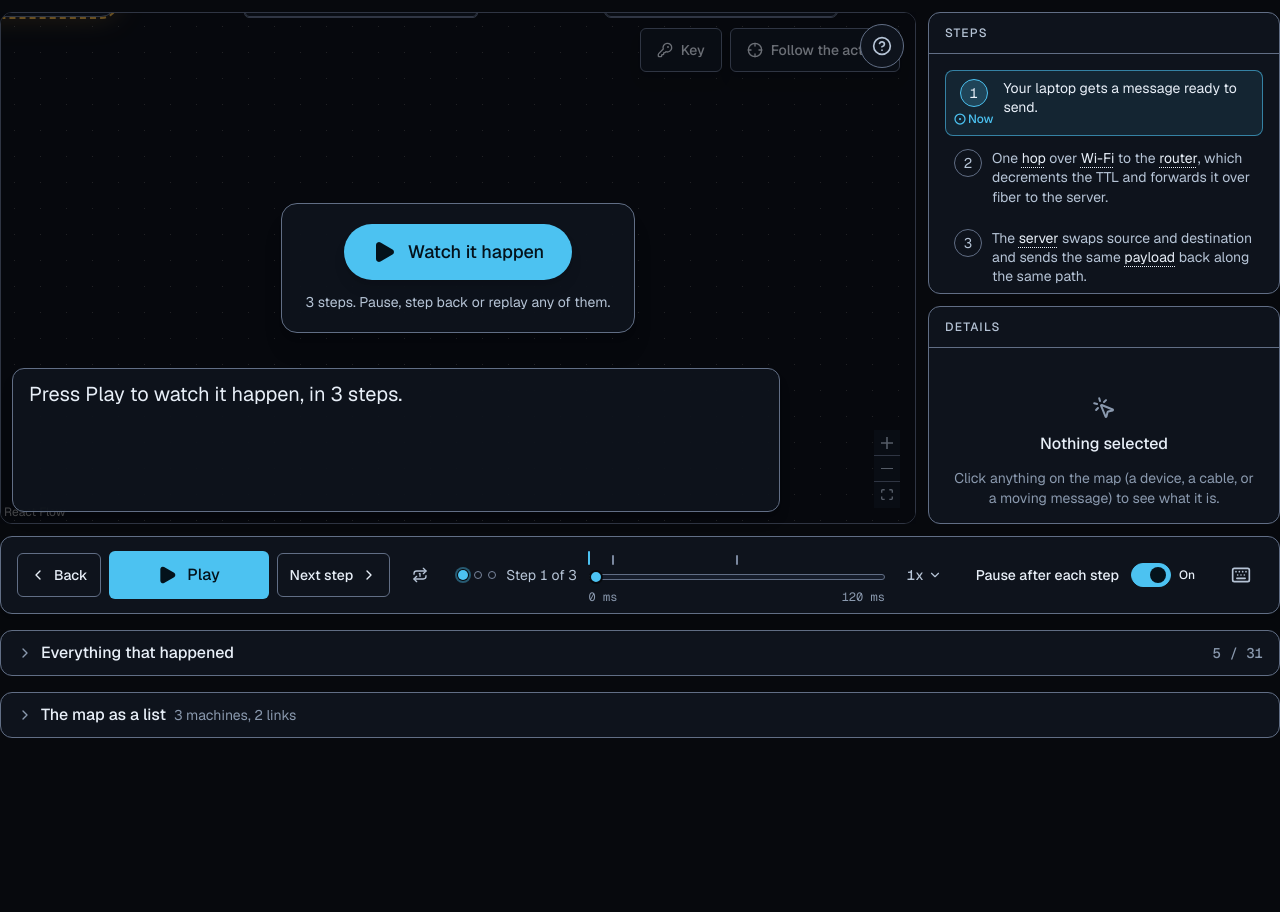
the run recap › closes on its button and hands focus to Play
Press End
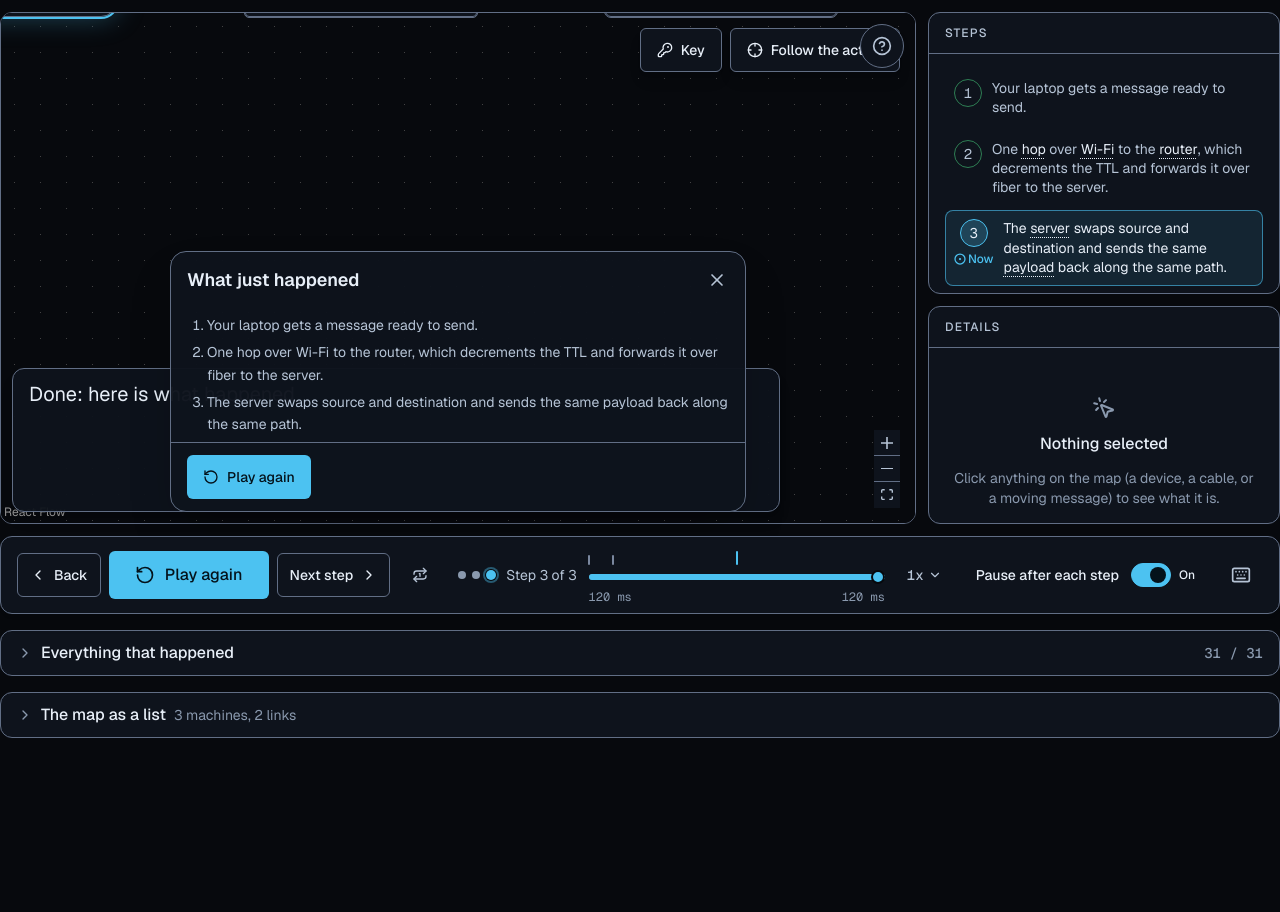
Click the button named "Close what just happened" at (717, 280), box [695,258,739,302]
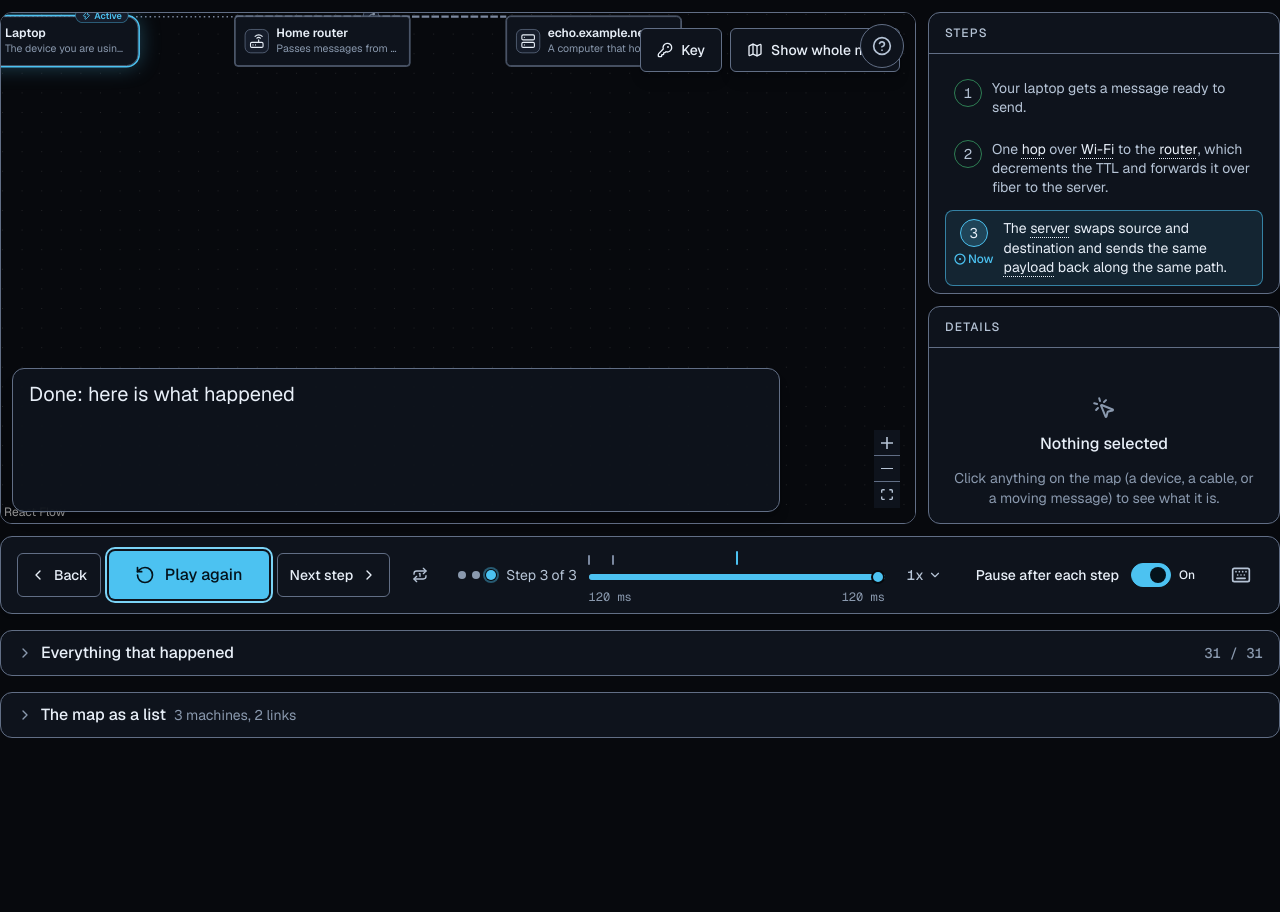
Expected: the heading "What just happened" is gone
